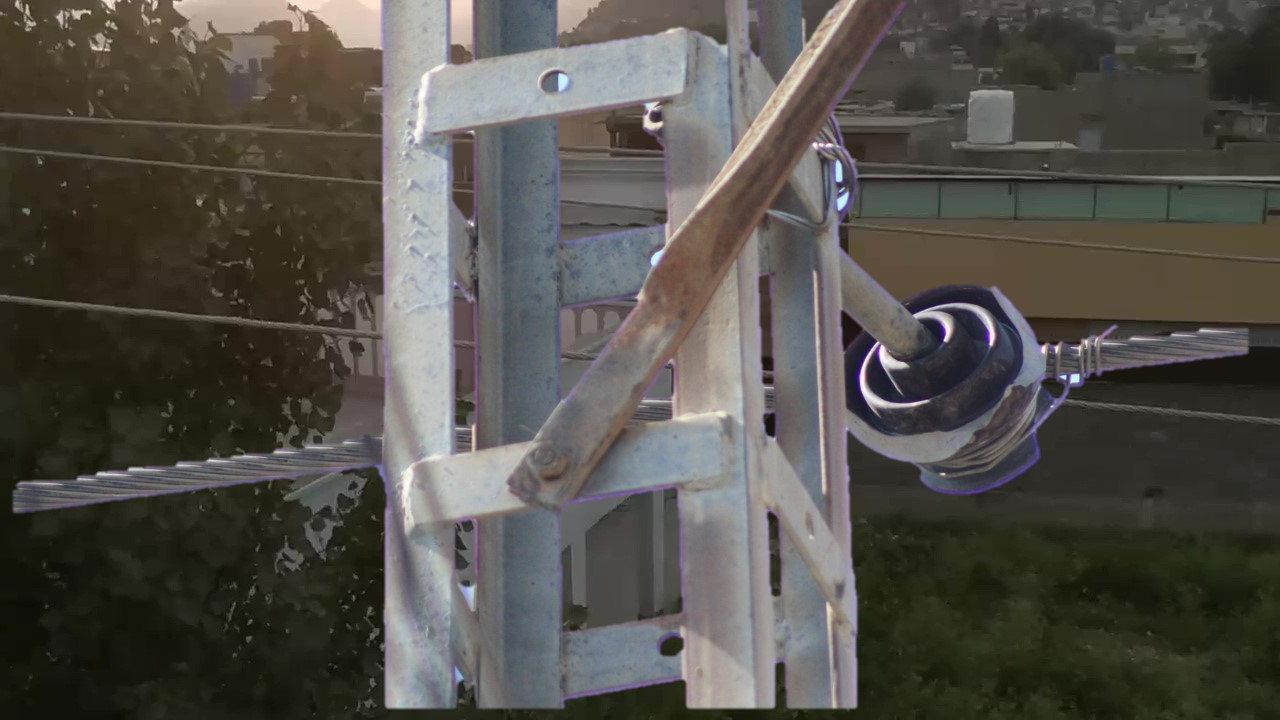defect_pin: (844, 259, 1074, 516)
